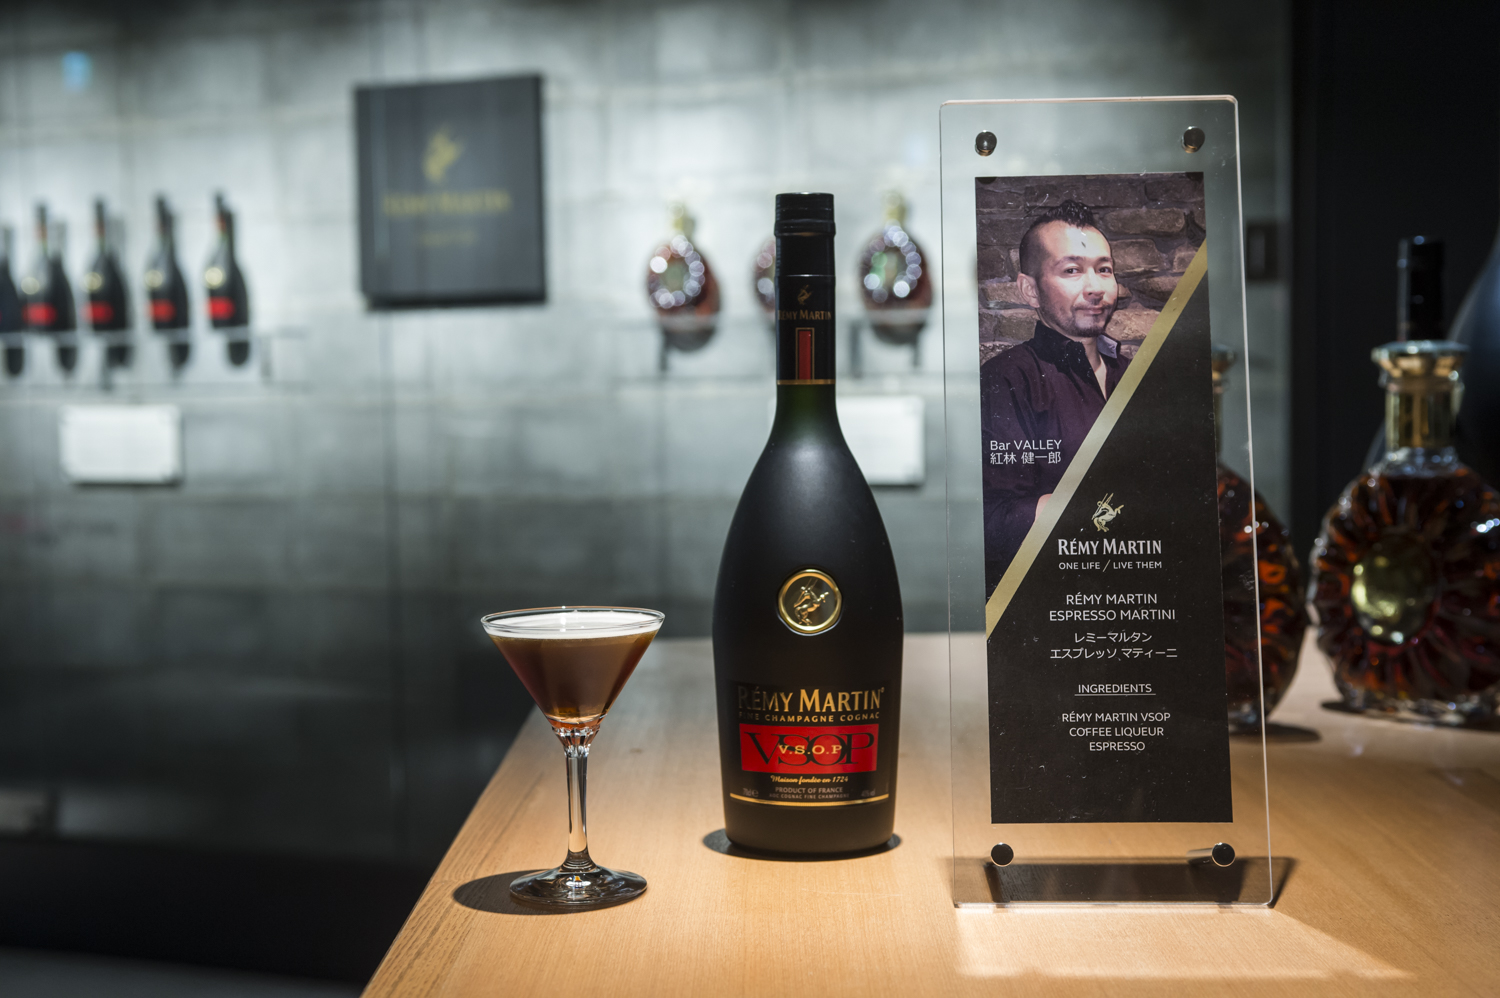Remy Martin: (682, 162, 931, 882)
